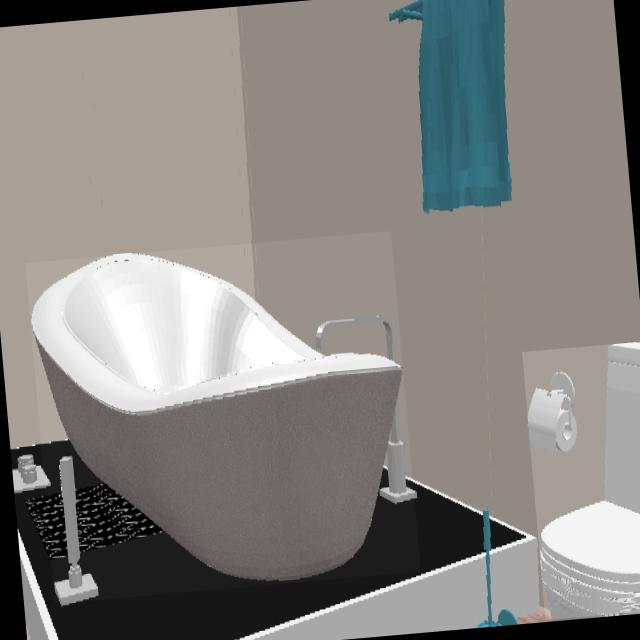bathtube: (30, 254, 403, 583)
toilet: (539, 343, 640, 620)
